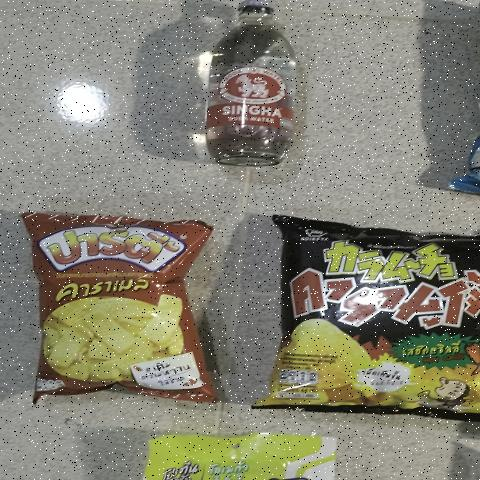karamujo: (282, 224, 480, 411)
party_red: (31, 216, 197, 401)
singha_soda: (195, 0, 317, 171)
